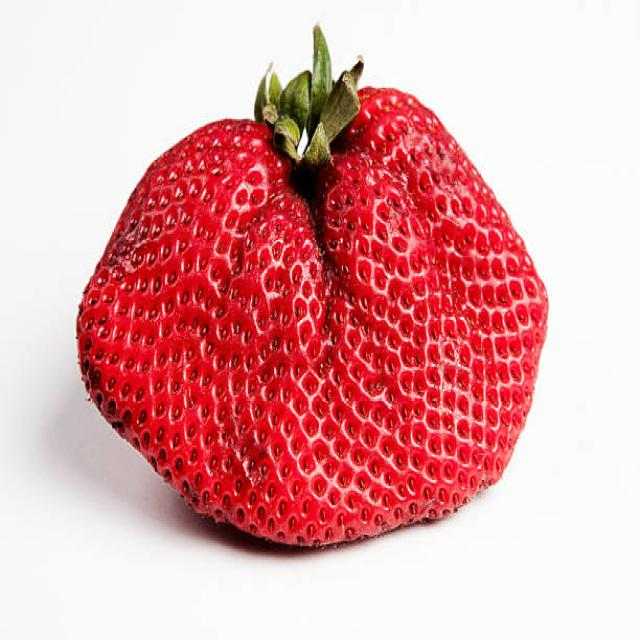Healthy Fruit: (75, 83, 550, 547)
